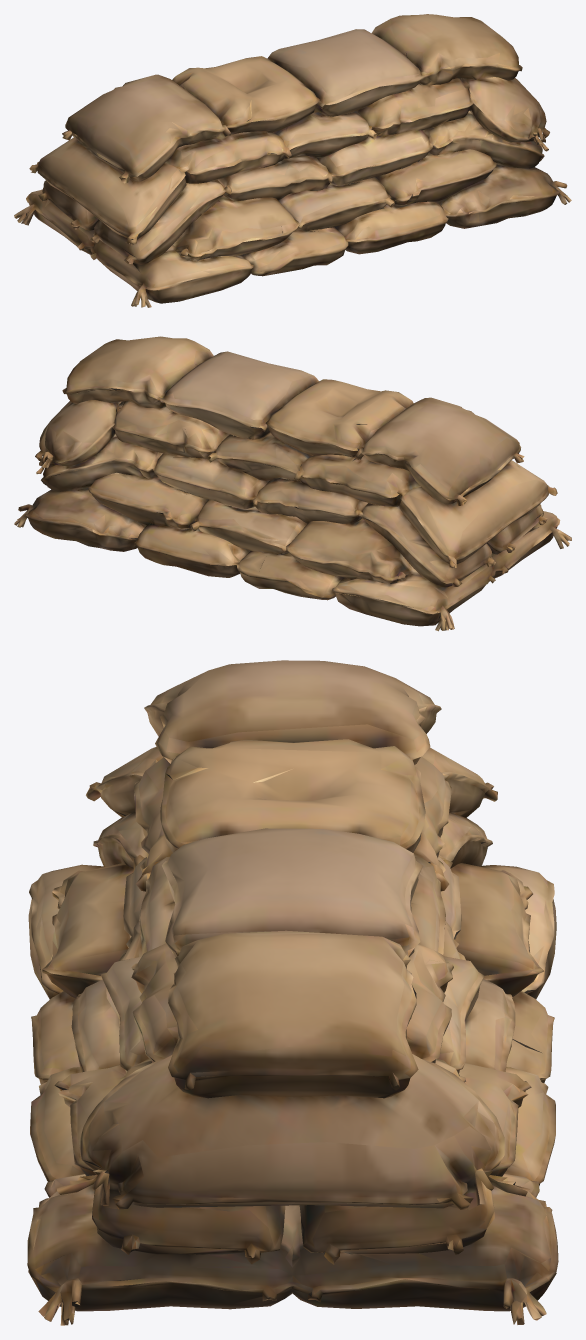
File: SackWall.glb
The picture shows the model from 3 angles, top to bottom: view 1: azimuth 30°, elevation 25°; view 2: azimuth 150°, elevation 25°; view 3: azimuth 270°, elevation 25°; orthographic projection. The views are drawn at different scales.
Visible parts, largest first — view 1: SackWall; view 2: SackWall; view 3: SackWall.
Part boxes in pixels (x1=…): SackWall: x1=14, y1=14, x2=571, y2=307; SackWall: x1=14, y1=336, x2=571, y2=631; SackWall: x1=27, y1=660, x2=558, y2=1325.
Size of the model in its own units: 2.48 by 0.8409 by 1.29.
1 material, 1 textured.
